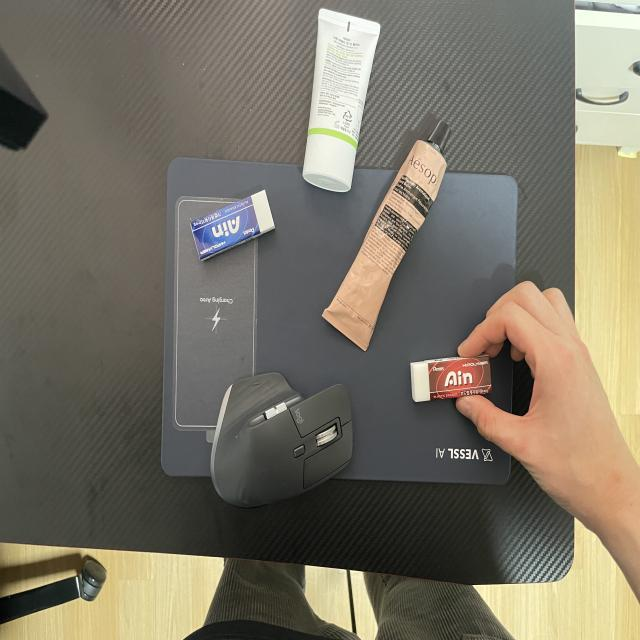blue: (186, 180, 278, 270)
red: (406, 350, 496, 409)
